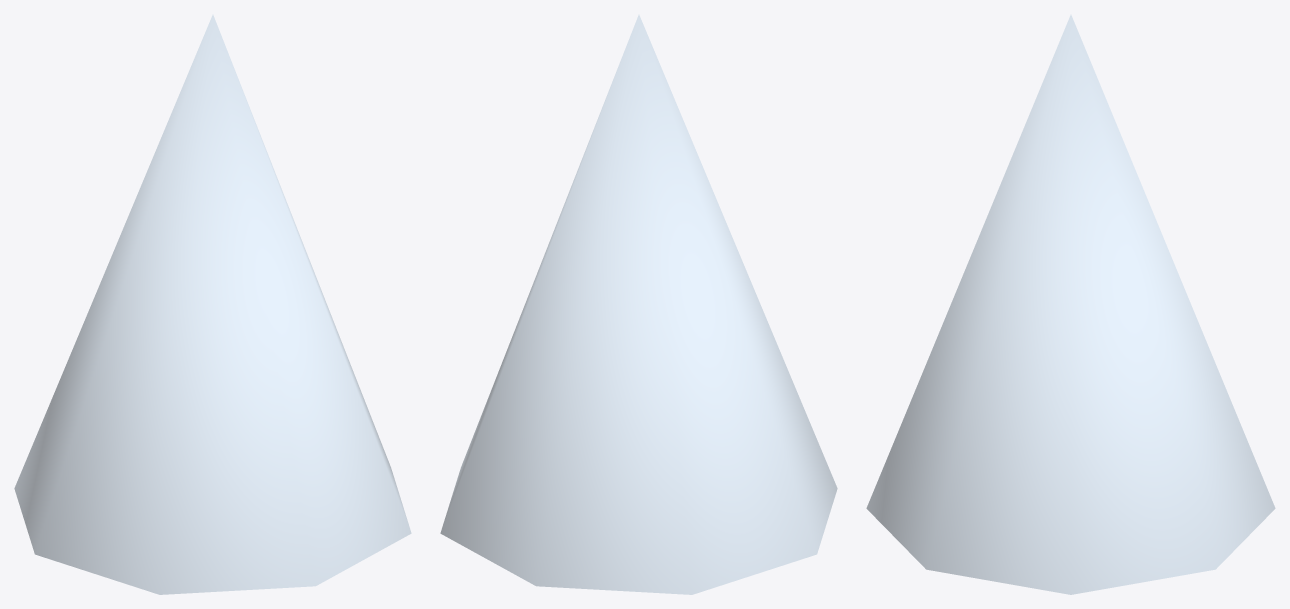
The model's file is ghost.glb.
The picture shows the model from 3 angles, left to right: view 1: azimuth 30°, elevation 25°; view 2: azimuth 150°, elevation 25°; view 3: azimuth 270°, elevation 25°; orthographic projection.
Parts seen in each view (by area): view 1: Ghost; view 2: Ghost; view 3: Ghost.
Boxes of the visible parts, box(x1,y1,x2,y2) form: Ghost: box(14, 15, 411, 594); Ghost: box(440, 15, 837, 594); Ghost: box(866, 15, 1275, 594).
Size of the model in its own units: 0.3 by 0.4 by 0.3.
